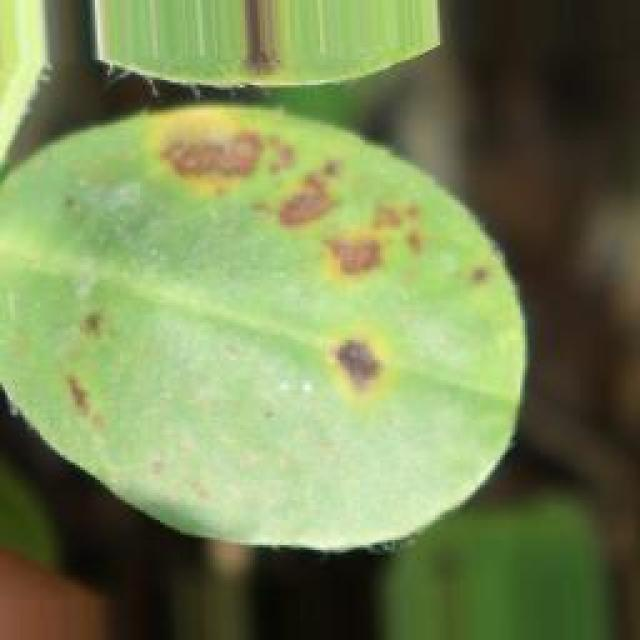Yellowish: (26, 10, 566, 483)
